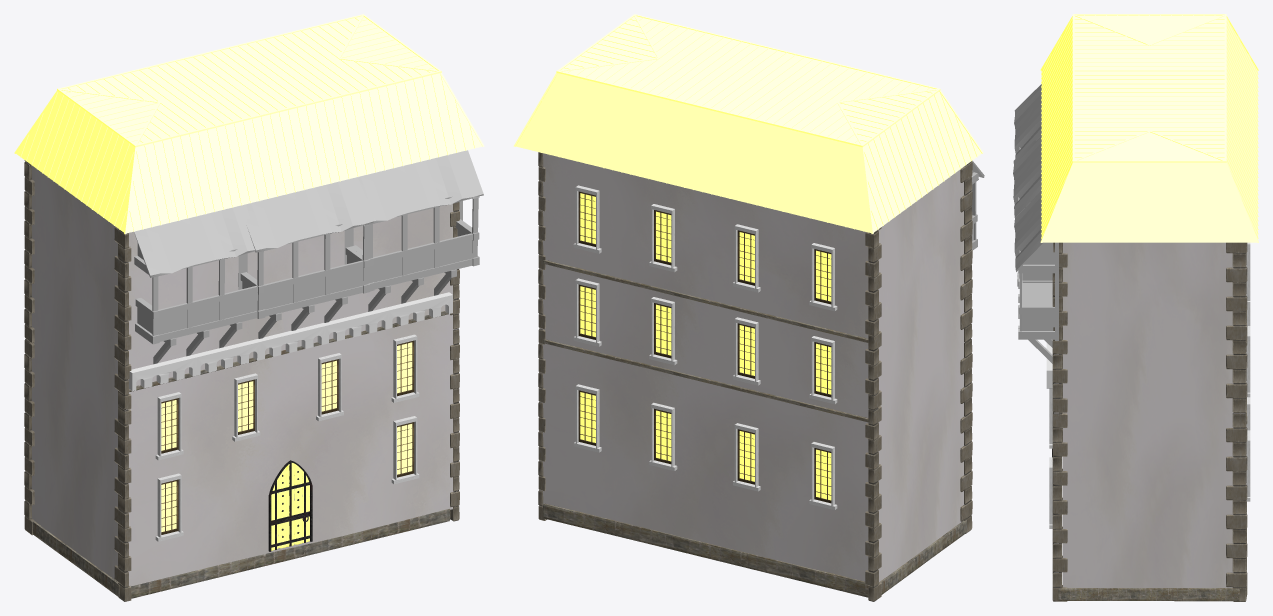
The model's file is Buiding 04.fbx.
3 renders of one model, left to right at view 1: azimuth 30°, elevation 25°; view 2: azimuth 150°, elevation 25°; view 3: azimuth 270°, elevation 25°, orthographic.
Visible parts, largest first — view 1: LOD 0; view 2: LOD 0; view 3: LOD 0.
Part boxes in pixels (x1,y1,x2,y2): LOD 0: (14,14,484,601); LOD 0: (513,14,984,601); LOD 0: (1013,14,1258,601).
Size of what is drawn, in the model's own units: 1621 by 1911 by 974.
